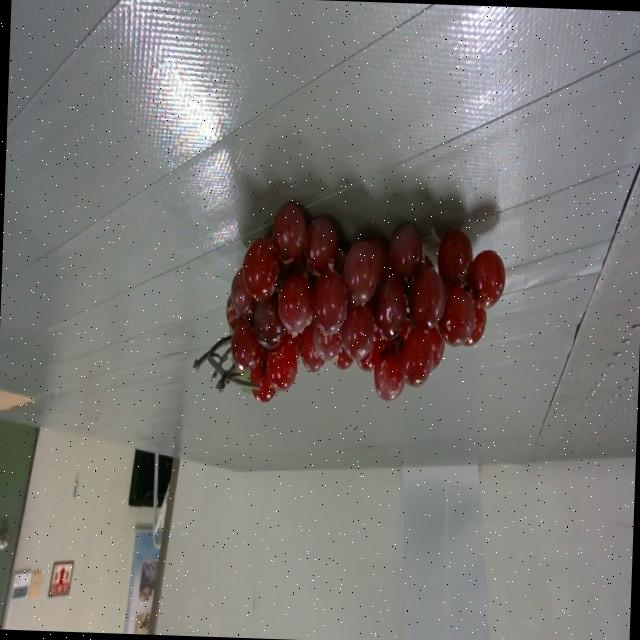grape: (195, 202, 504, 402)
